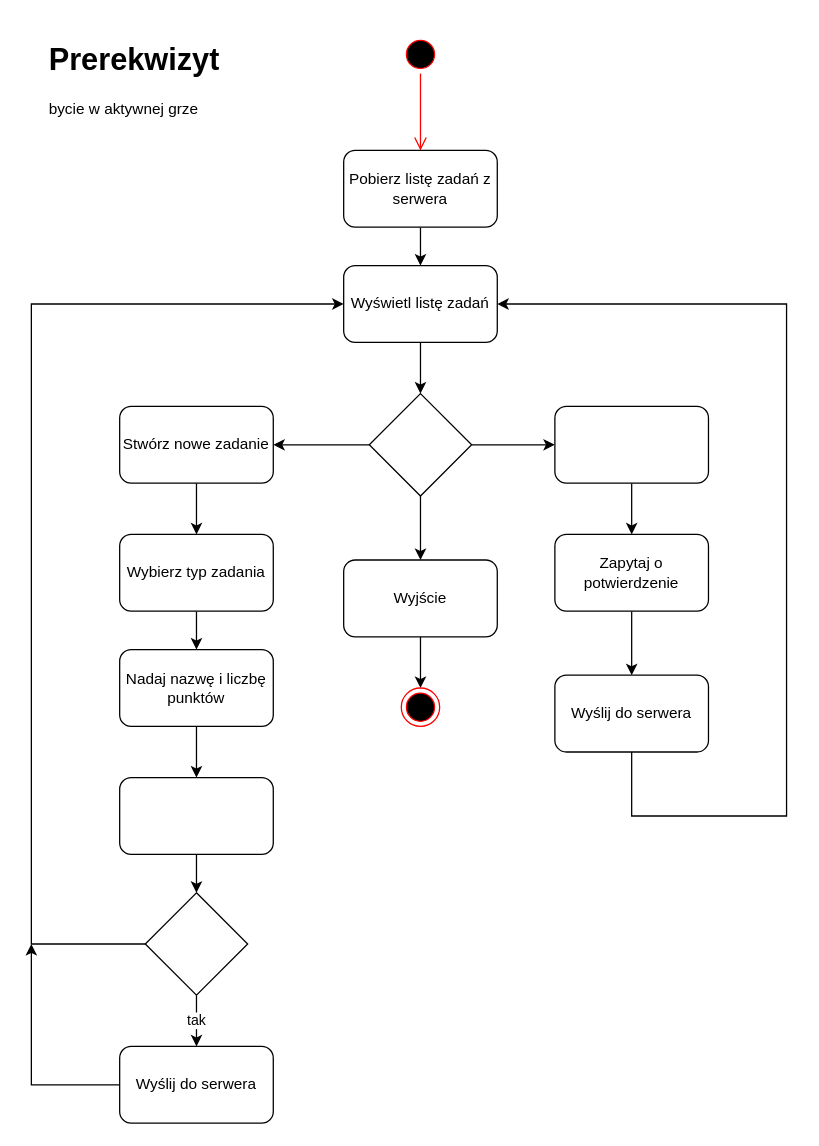
Some shapes in this 819 by 1146 pixel diagram are drawn without their labels. The shapes that lost their labels are listed below. From the top down, each one's centre as x and y in pixels, then its label:
At [420,444]: "Co chcesz robić?".
At [631,444]: "Usuń istniejące zadanie".
At [195,815]: "(abstract) Wykonaj akcje / dołącz dane".
At [196,943]: "Akceptujesz?".
